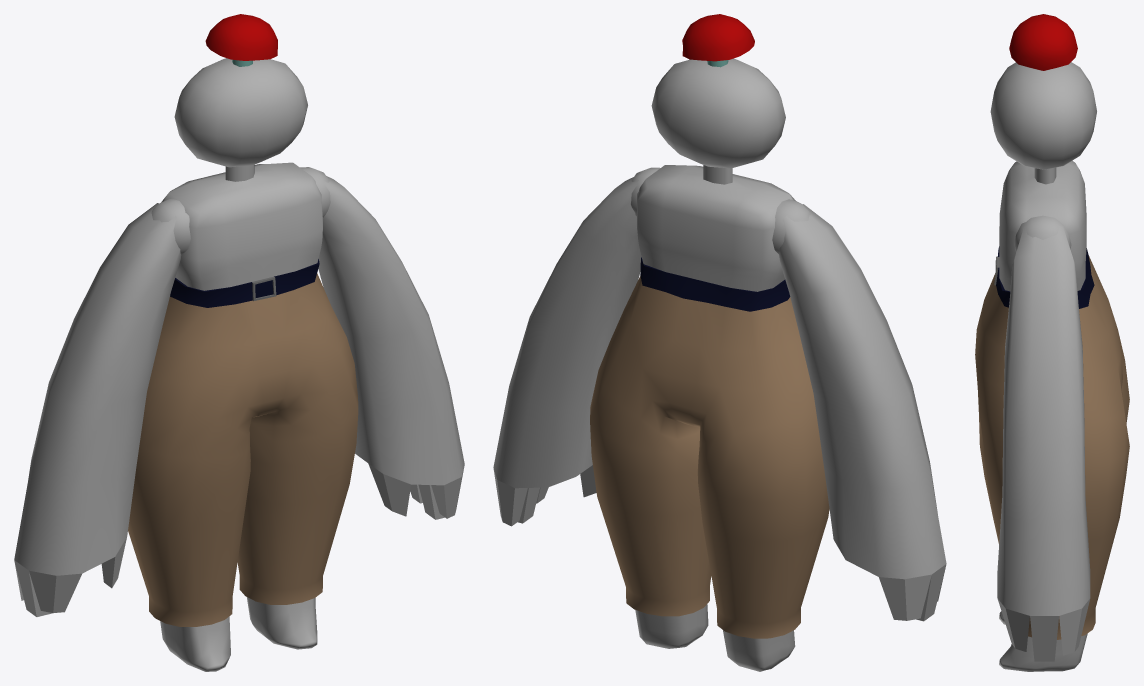
File: Garamond.fbx
3 views of the same model, side by side, from view 1: azimuth 30°, elevation 25°; view 2: azimuth 150°, elevation 25°; view 3: azimuth 270°, elevation 25° (orthographic).
Visible parts, largest first — view 1: HB_Pants, Right_Arm, Left_Arm, HB_Body, Head, Flower, Right_Joint; view 2: HB_Pants, Right_Arm, Left_Arm, HB_Body, Head, Flower, Right_Joint; view 3: Left_Arm, HB_Pants, Head, HB_Body, Flower, Left_Joint.
Part boxes in pixels (x1,y1,x2,y2): HB_Pants: [128, 259, 358, 626]; Right_Arm: [14, 203, 180, 616]; Left_Arm: [318, 176, 464, 519]; HB_Body: [160, 162, 322, 671]; Head: [174, 58, 307, 167]; Flower: [205, 14, 277, 60]; Right_Joint: [151, 198, 190, 255]; HB_Pants: [590, 257, 829, 638]; Right_Arm: [779, 204, 946, 621]; Left_Arm: [493, 177, 641, 526]; HB_Body: [635, 165, 795, 671]; Head: [651, 58, 785, 168]; Flower: [682, 14, 754, 61]; Right_Joint: [772, 199, 810, 253]; Left_Arm: [997, 226, 1090, 661]; HB_Pants: [975, 246, 1129, 639]; Head: [990, 62, 1096, 169]; HB_Body: [999, 160, 1087, 671]; Flower: [1009, 14, 1077, 70]; Left_Joint: [1014, 215, 1071, 252].
Bounding box in the file's own units: 117 × 160 × 36.02.
